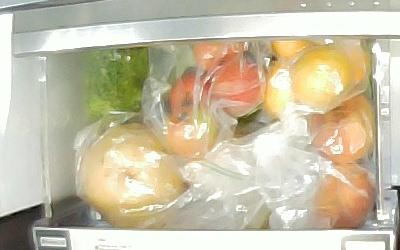peach_vinyl: (306, 91, 373, 164), (307, 163, 373, 229)
pear_vinyl: (81, 122, 182, 230)
tangerine_vinyl: (293, 50, 350, 105), (265, 61, 294, 118), (270, 39, 307, 58)
tomato_vinyl: (211, 52, 265, 117), (165, 105, 218, 157), (191, 41, 244, 72), (171, 72, 210, 111)
